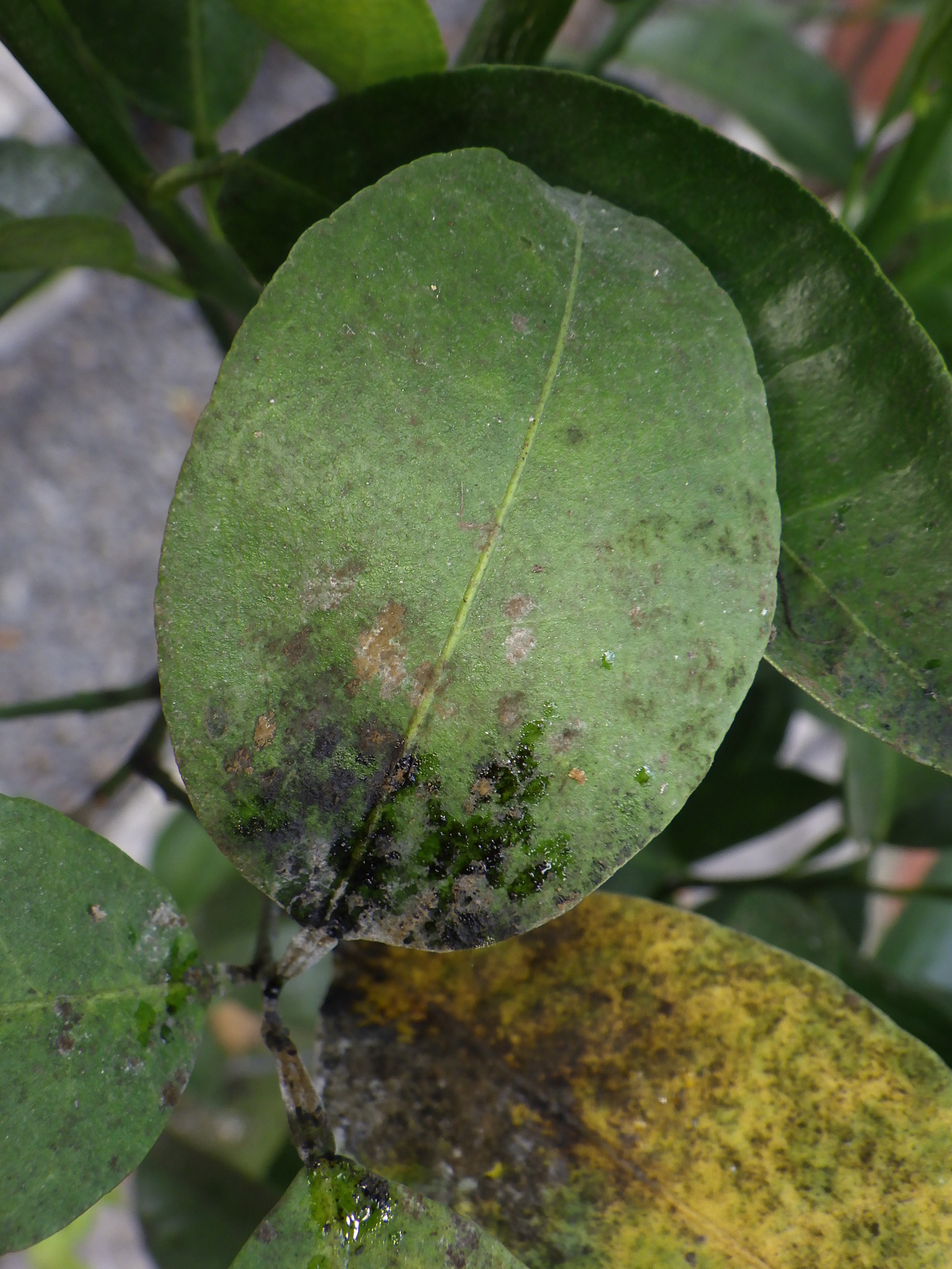Sooty_Mold: (157, 149, 779, 951)
